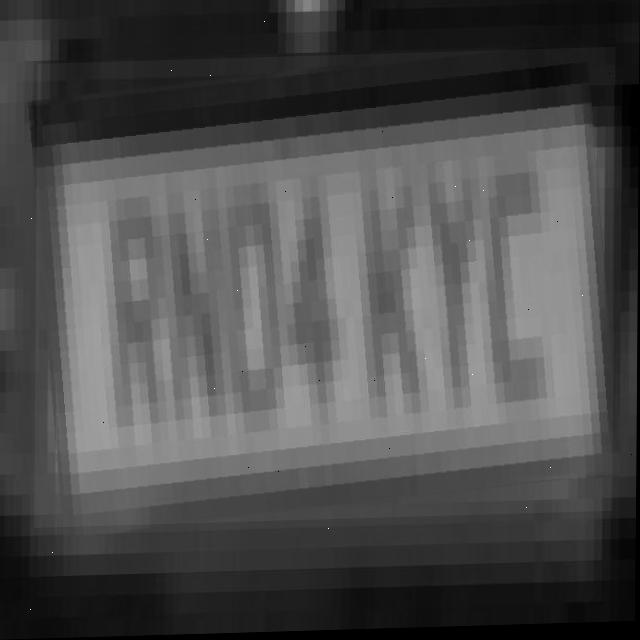LicensePlate: (35, 51, 616, 528)
